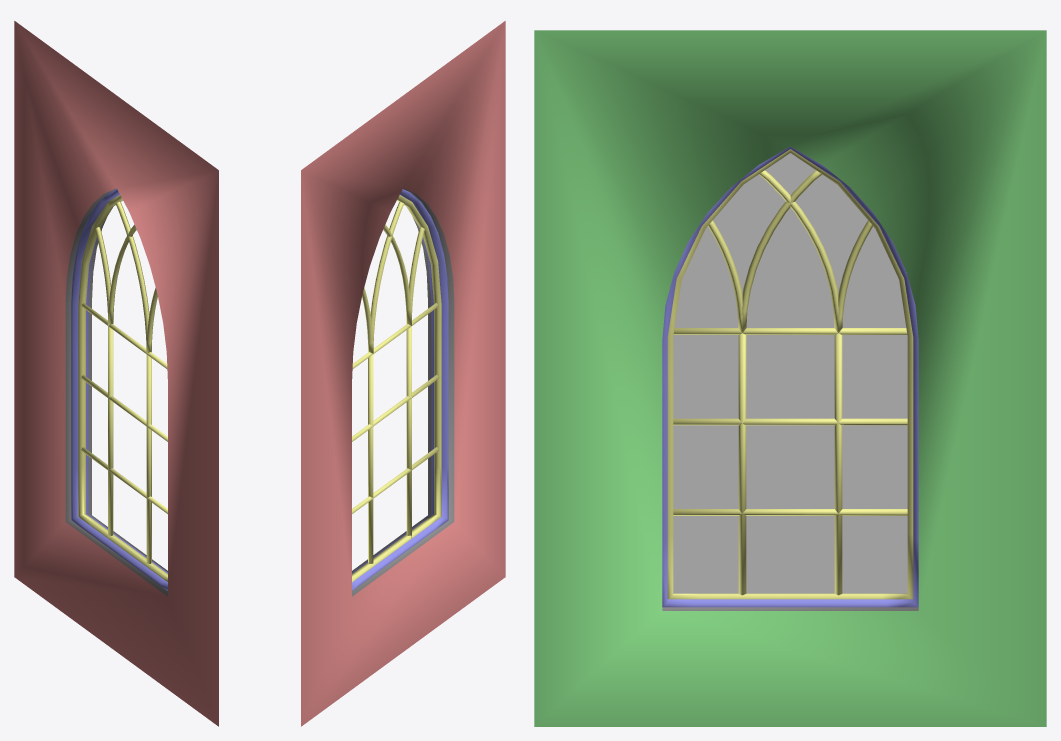
File: SM_window_12.gltf
The picture shows the model from 3 angles, left to right: view 1: azimuth 30°, elevation 25°; view 2: azimuth 150°, elevation 25°; view 3: azimuth 270°, elevation 25°; orthographic projection. The views are drawn at different scales.
Parts seen in each view (by area): view 1: SM_window_12; view 2: SM_window_12; view 3: SM_window_12.
Boxes of the visible parts, x1,y1,x2,y2 form: SM_window_12: [14, 21, 218, 726]; SM_window_12: [301, 21, 505, 726]; SM_window_12: [534, 30, 1046, 726].
Size of the model in its own units: 0.3 by 6 by 4.
